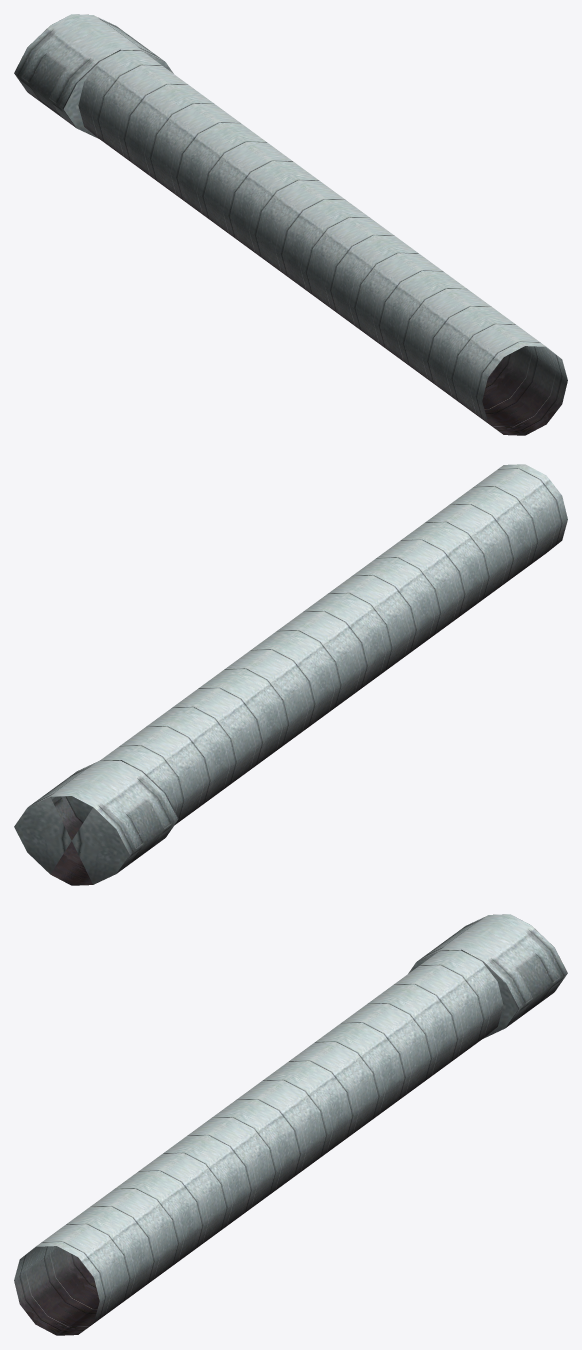
Rendered from pipes_no_supports.fbx.
3 renders of one model, top to bottom at view 1: azimuth 30°, elevation 25°; view 2: azimuth 150°, elevation 25°; view 3: azimuth 330°, elevation 25°, orthographic.
Visible parts, largest first — view 1: mesh_0; view 2: mesh_0; view 3: mesh_0.
Part boxes in pixels (x1,y1,x2,y2): mesh_0: [14, 14, 567, 435]; mesh_0: [14, 464, 567, 885]; mesh_0: [14, 914, 567, 1335].
Bounding box in the file's own units: 103 × 76.43 × 700.
Materials: 1 (1 with a texture image).
